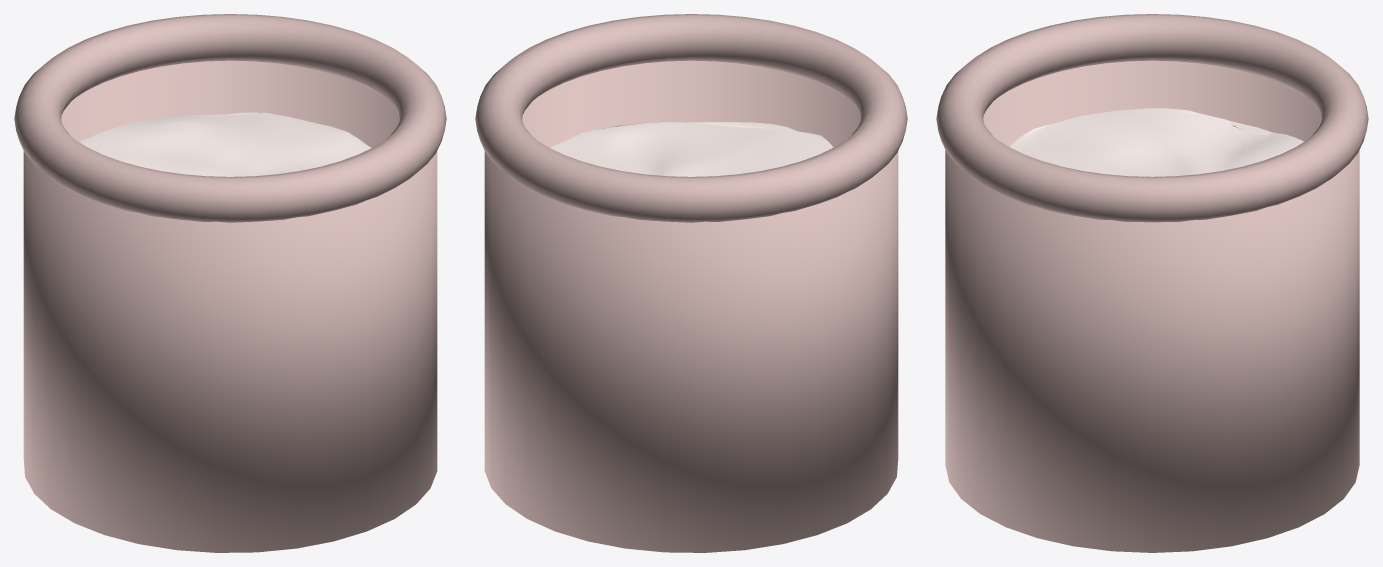
Rendered from milkbucket2.fbx.
3 renders of one model, left to right at view 1: azimuth 30°, elevation 25°; view 2: azimuth 150°, elevation 25°; view 3: azimuth 270°, elevation 25°, orthographic.
Parts seen in each view (by area): view 1: Cylinder.044, Sphere.081; view 2: Cylinder.044, Sphere.081; view 3: Cylinder.044, Sphere.081.
Boxes of the visible parts, left/top/right/bottom form: Cylinder.044: left=14, top=14, right=446, bottom=552; Sphere.081: left=79, top=112, right=371, bottom=176; Cylinder.044: left=475, top=14, right=907, bottom=552; Sphere.081: left=550, top=121, right=833, bottom=176; Cylinder.044: left=936, top=14, right=1368, bottom=552; Sphere.081: left=1008, top=108, right=1304, bottom=176.
Size of the model in its own units: 192 by 181 by 192.
